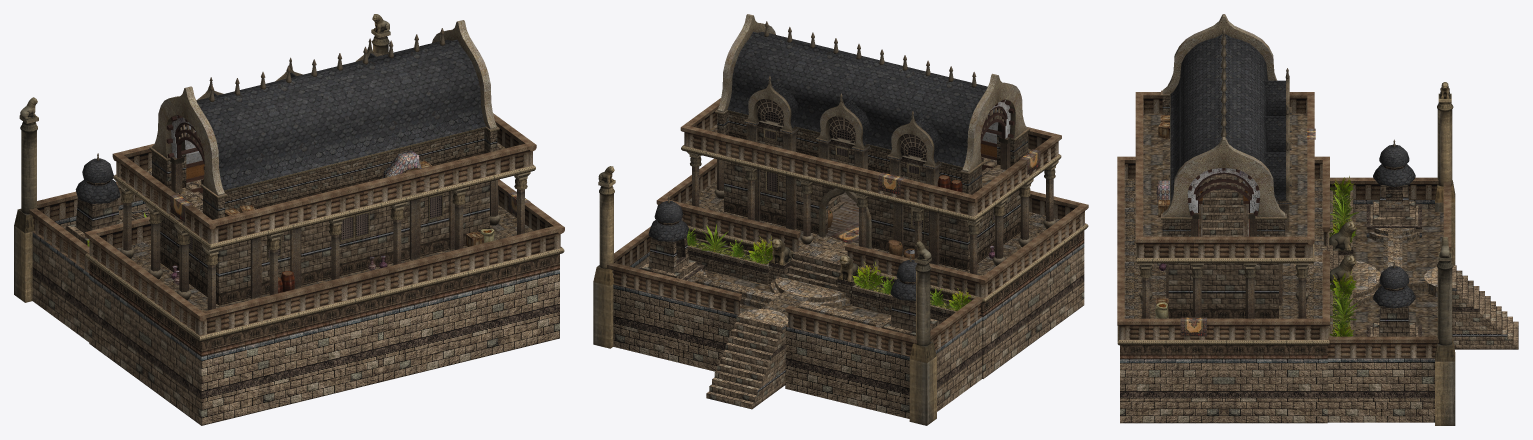
The model's file is maur_town_center.glb.
3 views of the same model, side by side, from view 1: azimuth 30°, elevation 25°; view 2: azimuth 150°, elevation 25°; view 3: azimuth 270°, elevation 25° (orthographic). The views are drawn at different scales.
Visible parts, largest first — view 1: maur_town_center_part0, maur_town_center_part5, maur_town_center_part3, maur_town_center_part2; view 2: maur_town_center_part0, maur_town_center_part5, maur_town_center_part3, maur_town_center_part4, maur_town_center_part2; view 3: maur_town_center_part0, maur_town_center_part5, maur_town_center_part3, maur_town_center_part4, maur_town_center_part2.
Boxes of the visible parts, bbox=[...] form: maur_town_center_part0: bbox=[29, 20, 564, 425]; maur_town_center_part5: bbox=[75, 39, 530, 293]; maur_town_center_part3: bbox=[14, 29, 390, 302]; maur_town_center_part2: bbox=[20, 14, 389, 119]; maur_town_center_part0: bbox=[607, 14, 1088, 418]; maur_town_center_part5: bbox=[648, 31, 1058, 300]; maur_town_center_part3: bbox=[593, 179, 936, 425]; maur_town_center_part4: bbox=[687, 224, 971, 311]; maur_town_center_part2: bbox=[598, 166, 931, 281]; maur_town_center_part0: bbox=[1117, 14, 1518, 423]; maur_town_center_part5: bbox=[1139, 34, 1415, 318]; maur_town_center_part3: bbox=[1435, 93, 1455, 425]; maur_town_center_part4: bbox=[1329, 176, 1359, 336]; maur_town_center_part2: bbox=[1329, 82, 1450, 284].
Size of the model in its own units: 6.12 by 4.52 by 6.2.
Materials: 6 (6 with a texture image).
